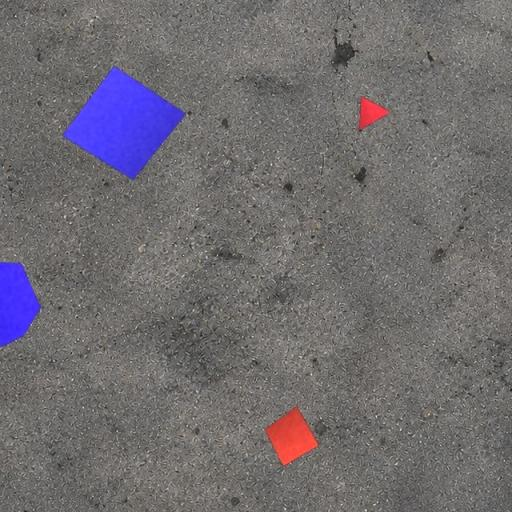BLUE_SQUARE: (62, 66, 186, 180)
RED_SQUARE: (264, 406, 320, 467)
